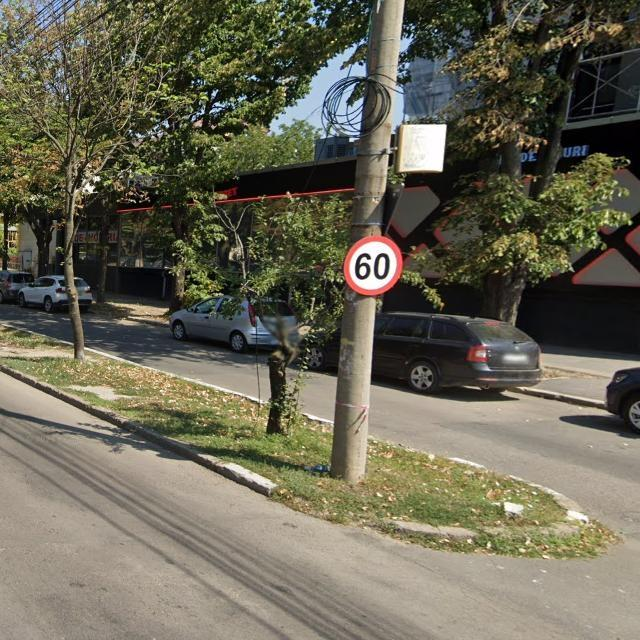forb_speed_over_60: (344, 236, 403, 296)
